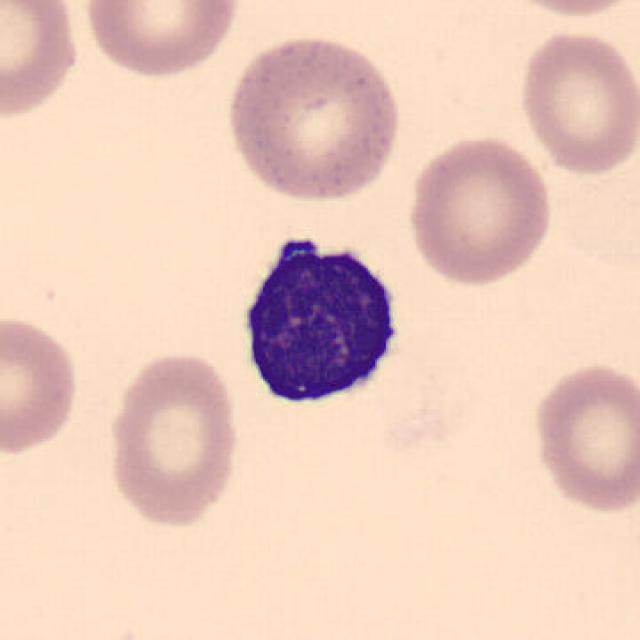Lymphocyte: (228, 222, 416, 420)
RBC: (219, 30, 407, 206), (102, 346, 244, 532), (402, 132, 556, 289), (514, 27, 638, 178), (526, 358, 638, 516), (78, 0, 244, 81), (0, 311, 84, 458), (0, 0, 85, 127), (487, 0, 640, 19)
